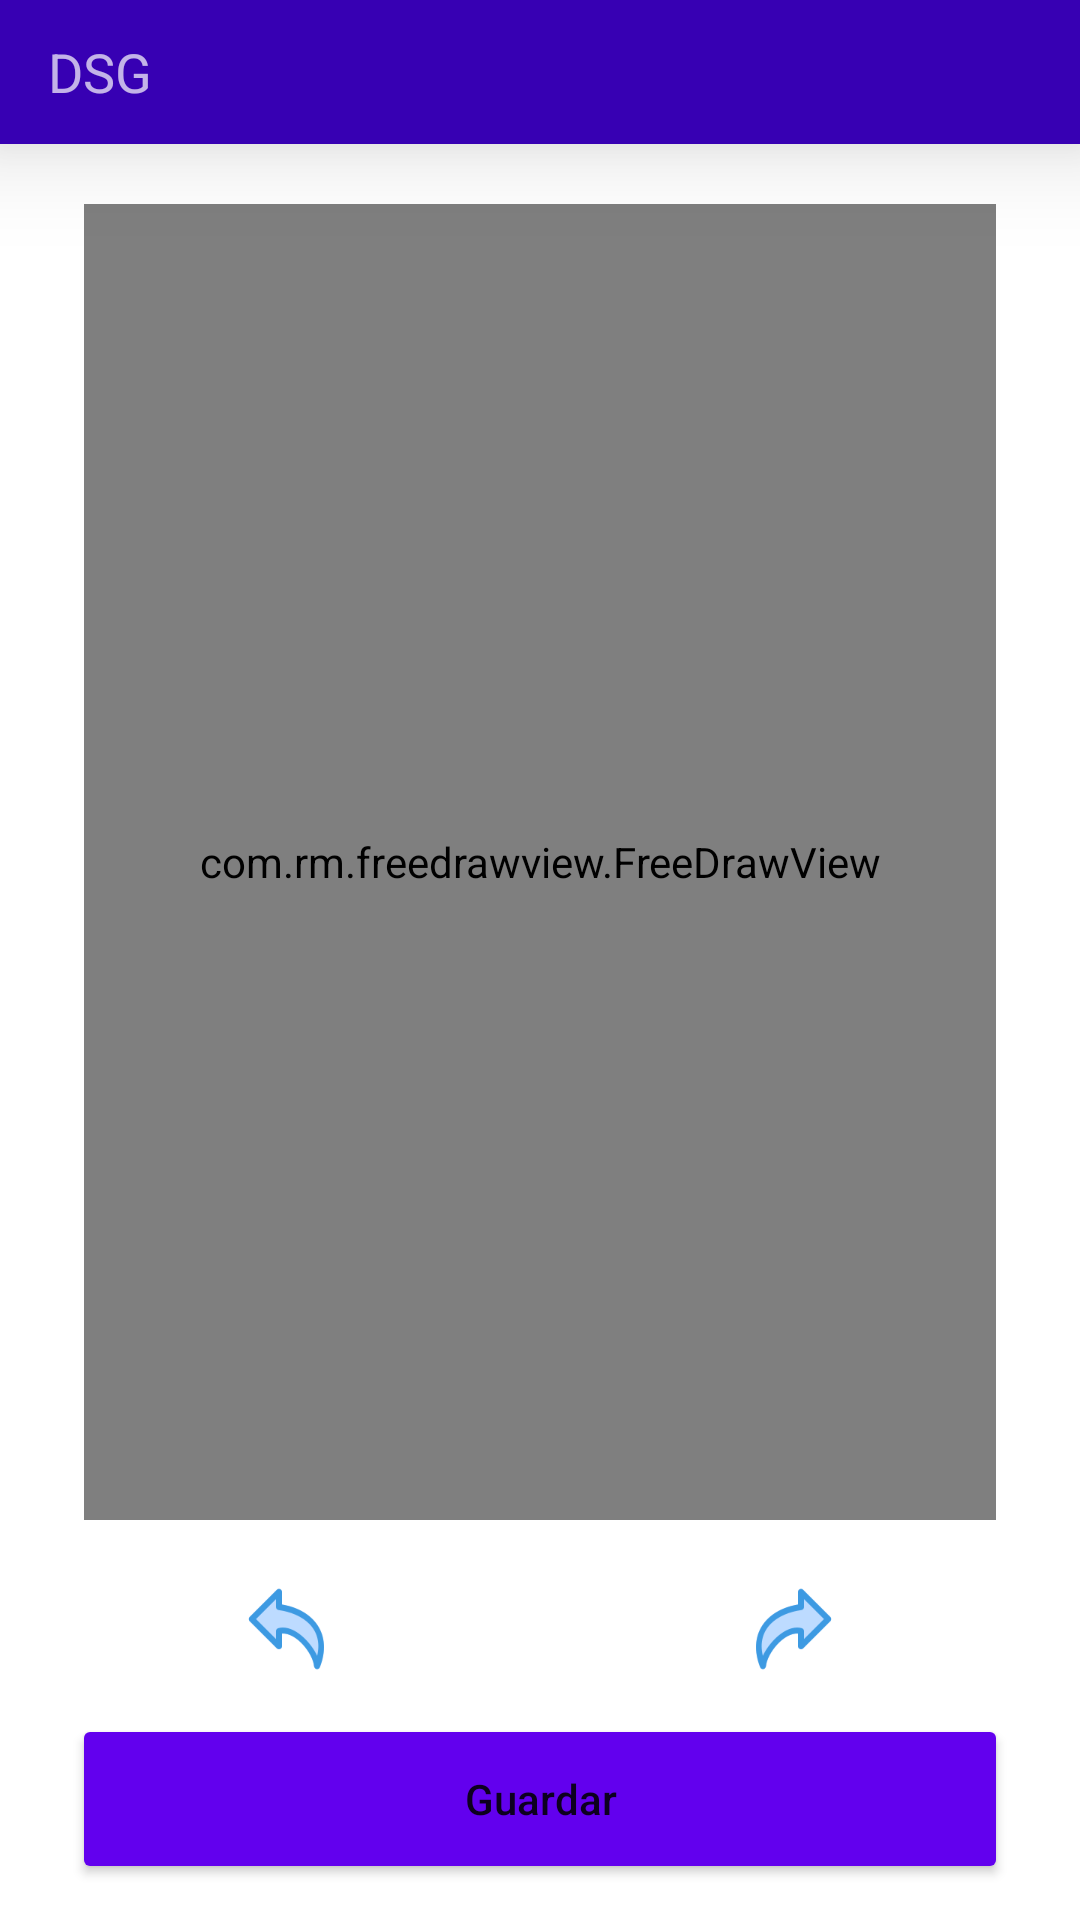

Icon bounding boxes for this 1080 x 1920 phone screenshot, format {"x1": x1, "y1": y1, "x2": x2, "y2": y2}:
redo: {"x1": 756, "y1": 1588, "x2": 832, "y2": 1670}
undo: {"x1": 248, "y1": 1588, "x2": 324, "y2": 1670}
